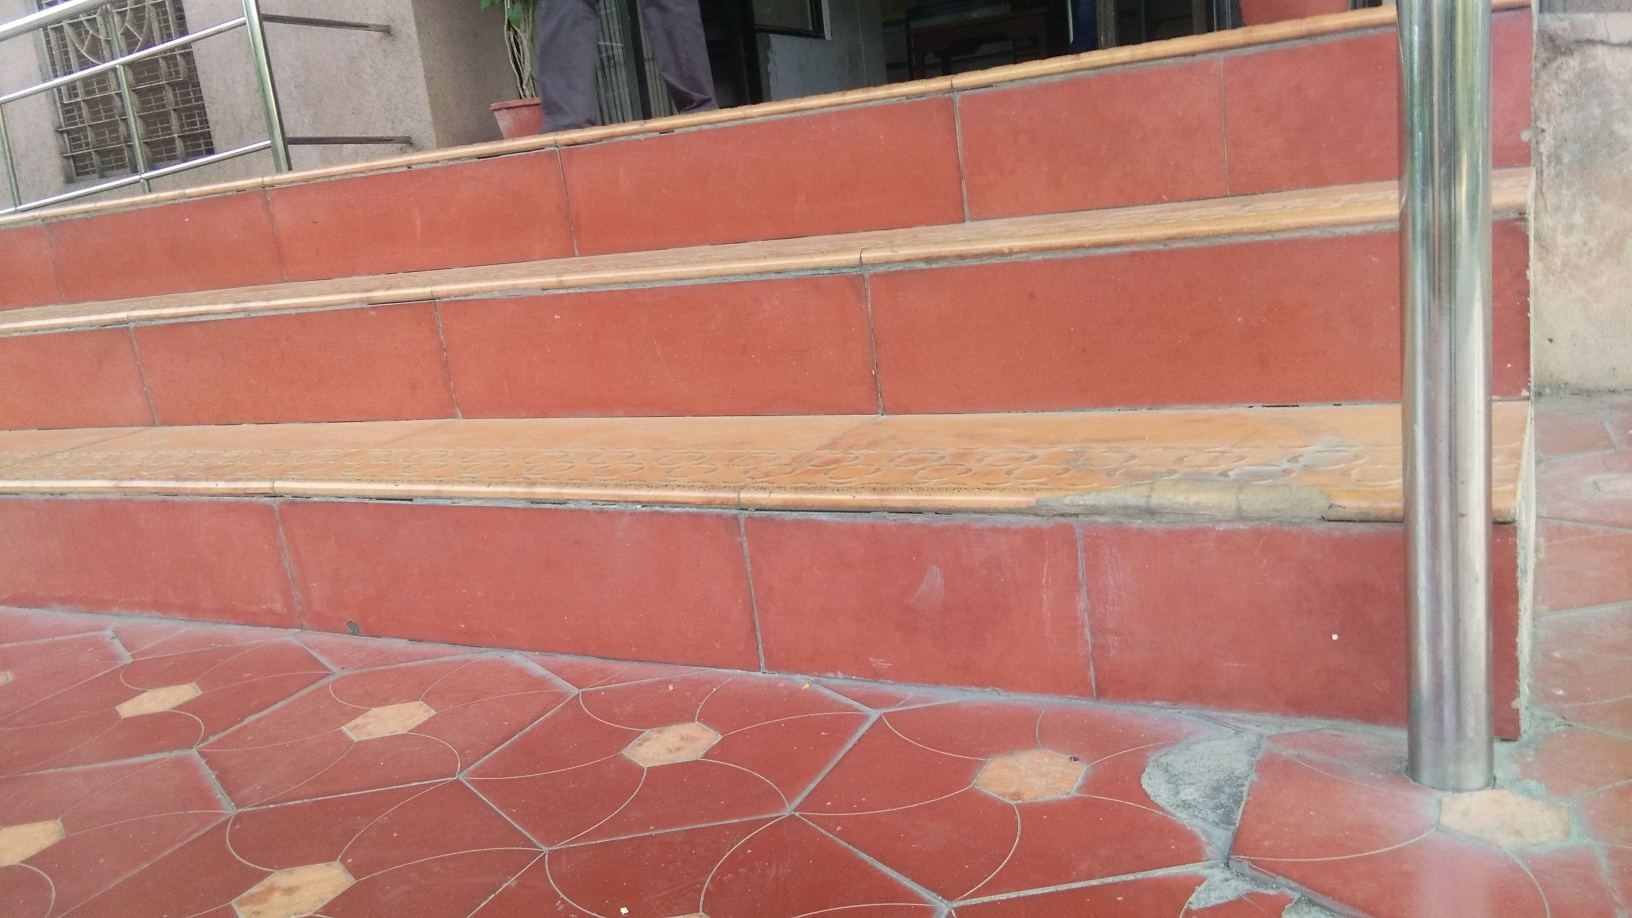stairs_up: (2, 2, 1517, 684)
